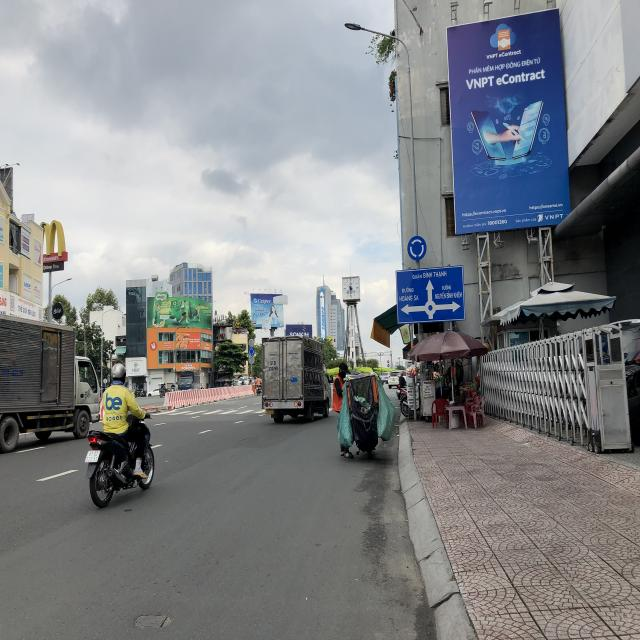Bien bao noi giao nhau chay theo vong xuyen: (405, 231, 429, 262), (248, 347, 255, 356)
